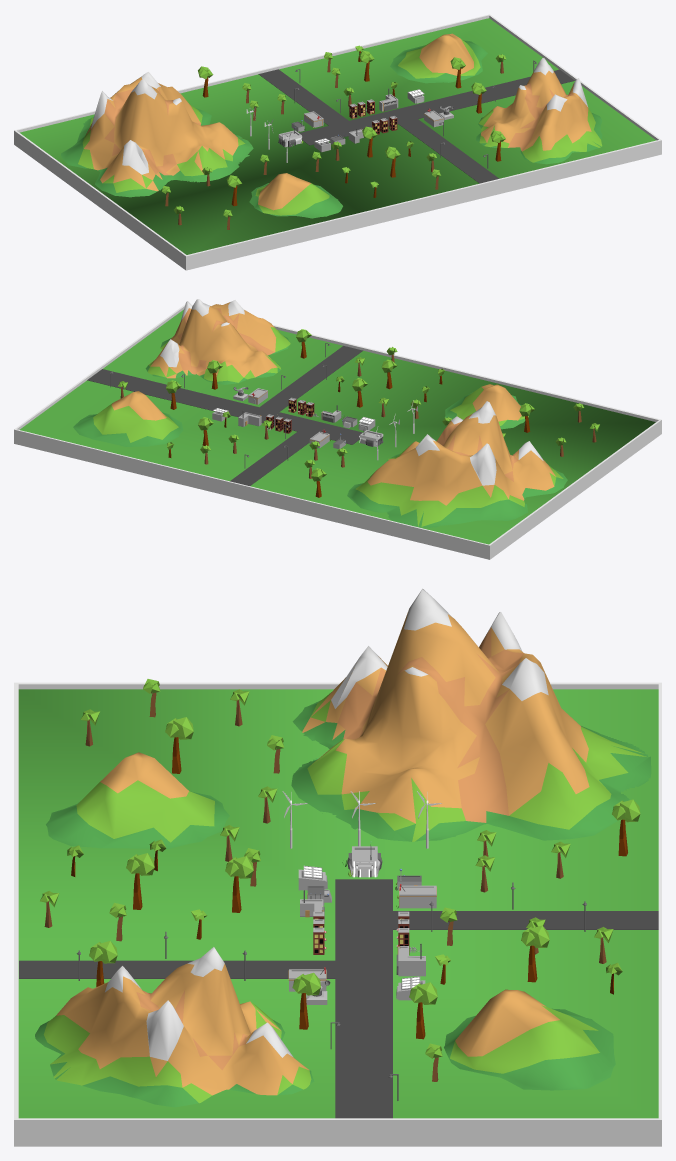
The picture shows the model from 3 angles, top to bottom: view 1: azimuth 30°, elevation 25°; view 2: azimuth 150°, elevation 25°; view 3: azimuth 270°, elevation 25°; orthographic projection. The views are drawn at different scales.
Visible parts, largest first — view 1: Дорога, Декорации, Plane; view 2: Дорога, Декорации, Plane; view 3: Дорога, Декорации, Plane, Станция, Больница.001, Декорации.016, Декорации.012, Декорации.022, Декорации.005, Декорации.011, Декорации.028, Декорации.017.
Boxes of the visible parts, left/top/right/bottom form: Дорога: left=14, top=14, right=661, bottom=270; Декорации: left=61, top=33, right=602, bottom=218; Plane: left=258, top=69, right=574, bottom=183; Дорога: left=14, top=304, right=661, bottom=559; Декорации: left=73, top=299, right=567, bottom=527; Plane: left=87, top=346, right=362, bottom=485; Дорога: left=14, top=682, right=661, bottom=1146; Декорации: left=35, top=588, right=651, bottom=1107; Plane: left=19, top=879, right=658, bottom=1118; Станция: left=347, top=844, right=382, bottom=877; Больница.001: left=399, top=884, right=436, bottom=908; Декорации.016: left=292, top=972, right=320, bottom=1029; Декорации.012: left=612, top=799, right=640, bottom=856; Декорации.022: left=165, top=717, right=193, bottom=773; Декорации.005: left=225, top=856, right=253, bottom=912; Декорации.011: left=521, top=925, right=549, bottom=982; Декорации.028: left=409, top=982, right=437, bottom=1039; Декорации.017: left=126, top=853, right=154, bottom=909.
Bounding box in the file's own units: 380 × 73.24 × 238.
